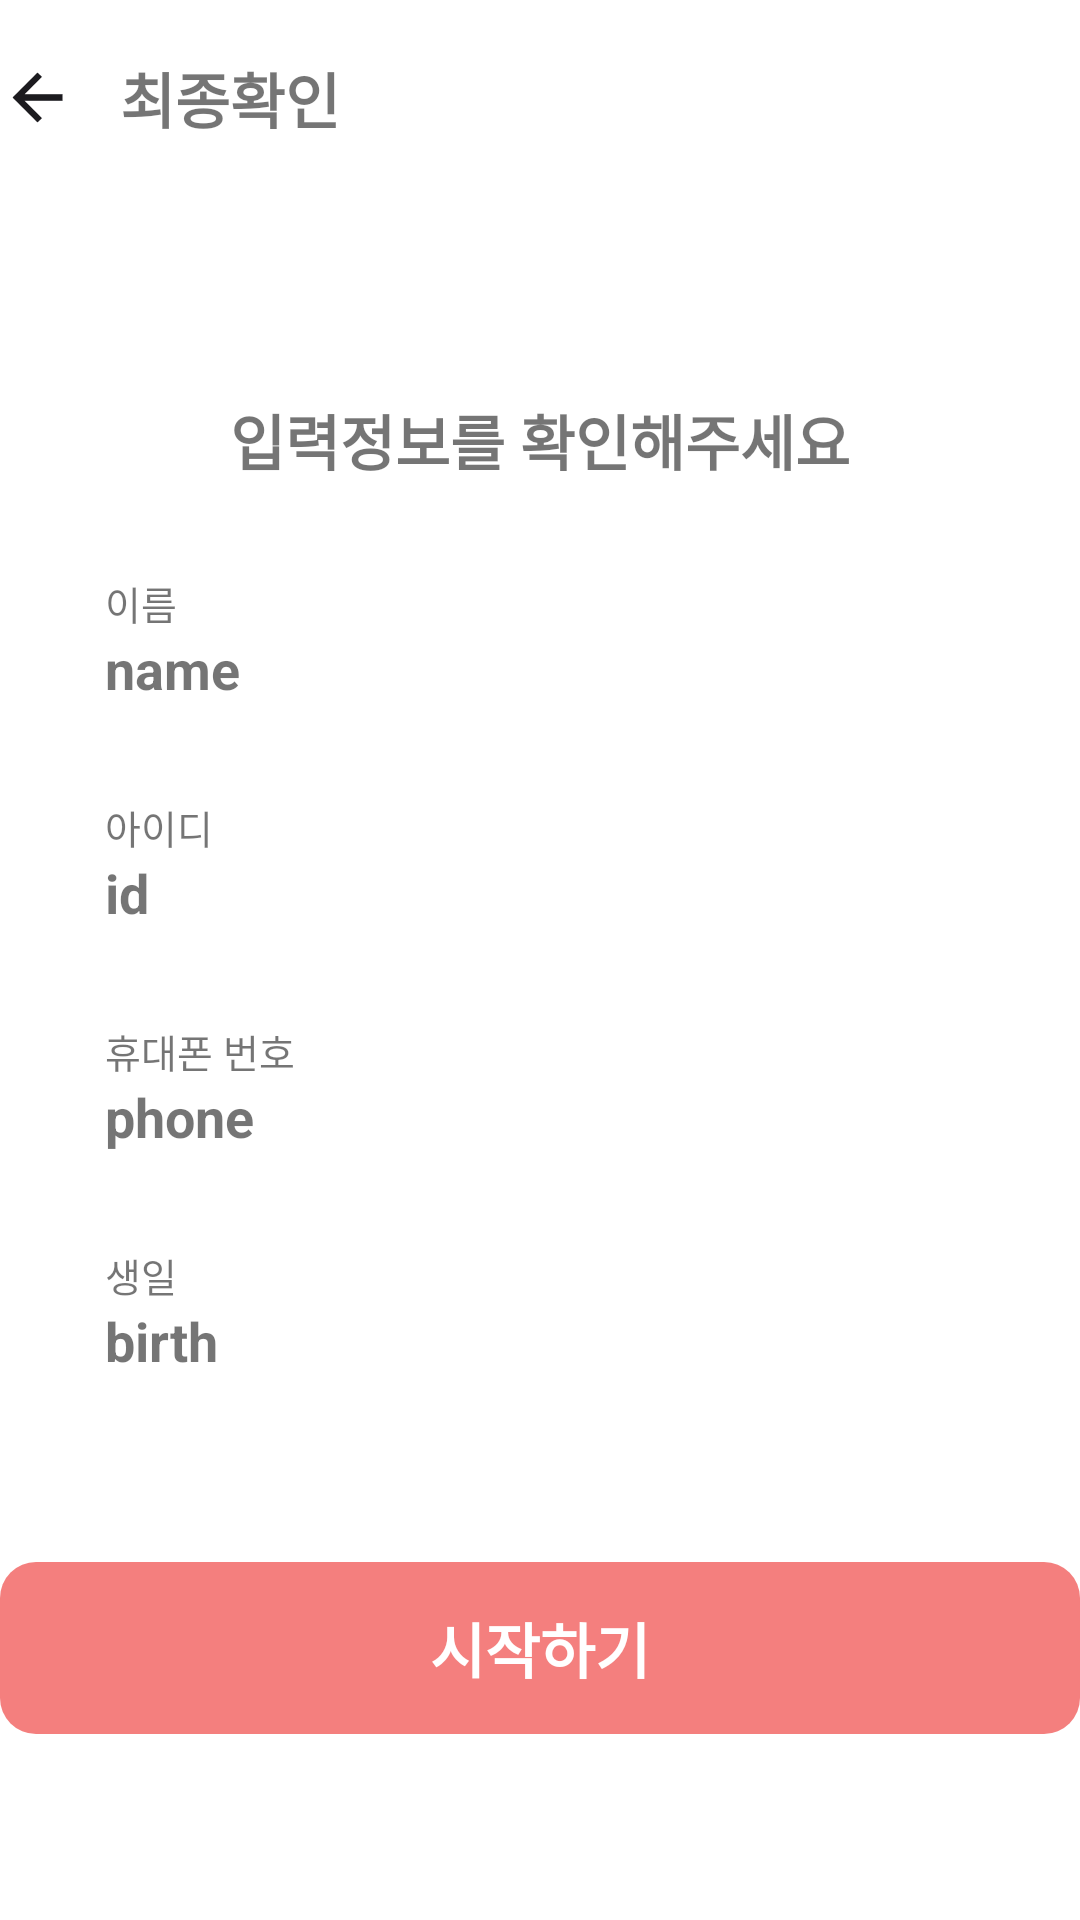

Screen size 1080 × 1920. Icon name, then its box in pixels as [x1, y1, x2, y2]:
back: [12, 72, 63, 123]
